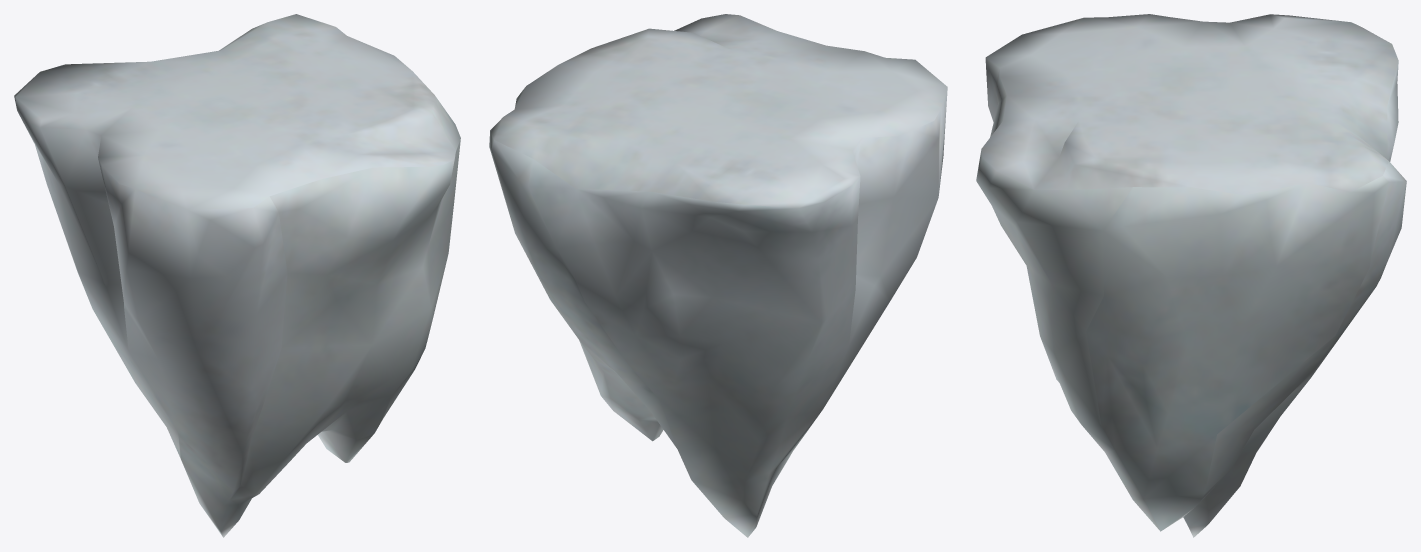
Rendered from P_CliffClassic4.obj.
3 renders of one model, left to right at view 1: azimuth 30°, elevation 25°; view 2: azimuth 150°, elevation 25°; view 3: azimuth 270°, elevation 25°, orthographic. The views are drawn at different scales.
Size of the model in its own units: 50.59 by 59.05 by 50.43.
